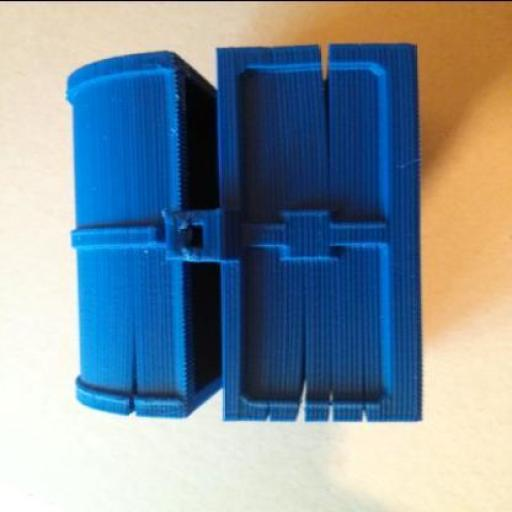cracks: (302, 34, 349, 169), (117, 323, 151, 423), (292, 352, 312, 430), (255, 398, 280, 440), (324, 394, 340, 432), (360, 394, 374, 432)
